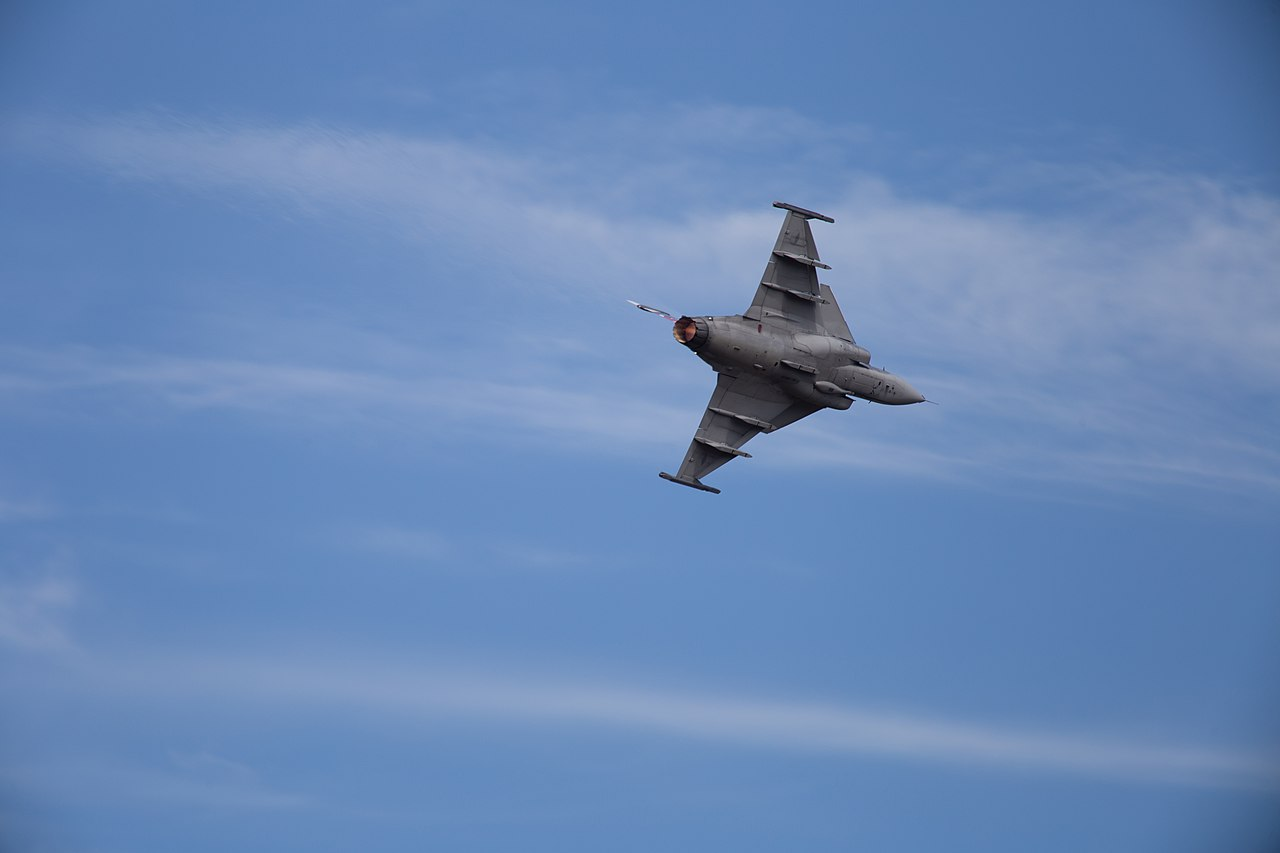JAS39: (625, 201, 938, 494)
